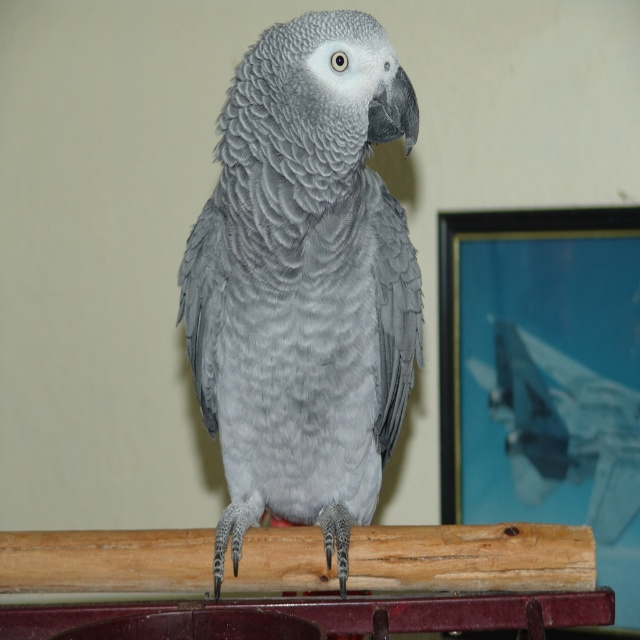Parrot: (176, 8, 426, 603)
